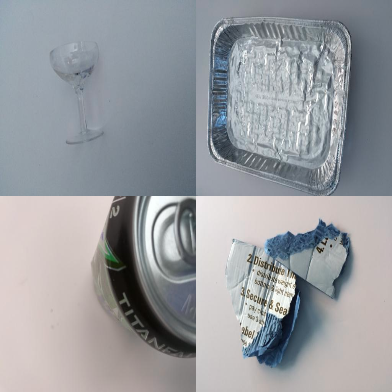cardboard: (224, 219, 348, 367)
glass: (49, 40, 104, 145)
metal: (207, 17, 352, 194), (89, 196, 196, 358)
